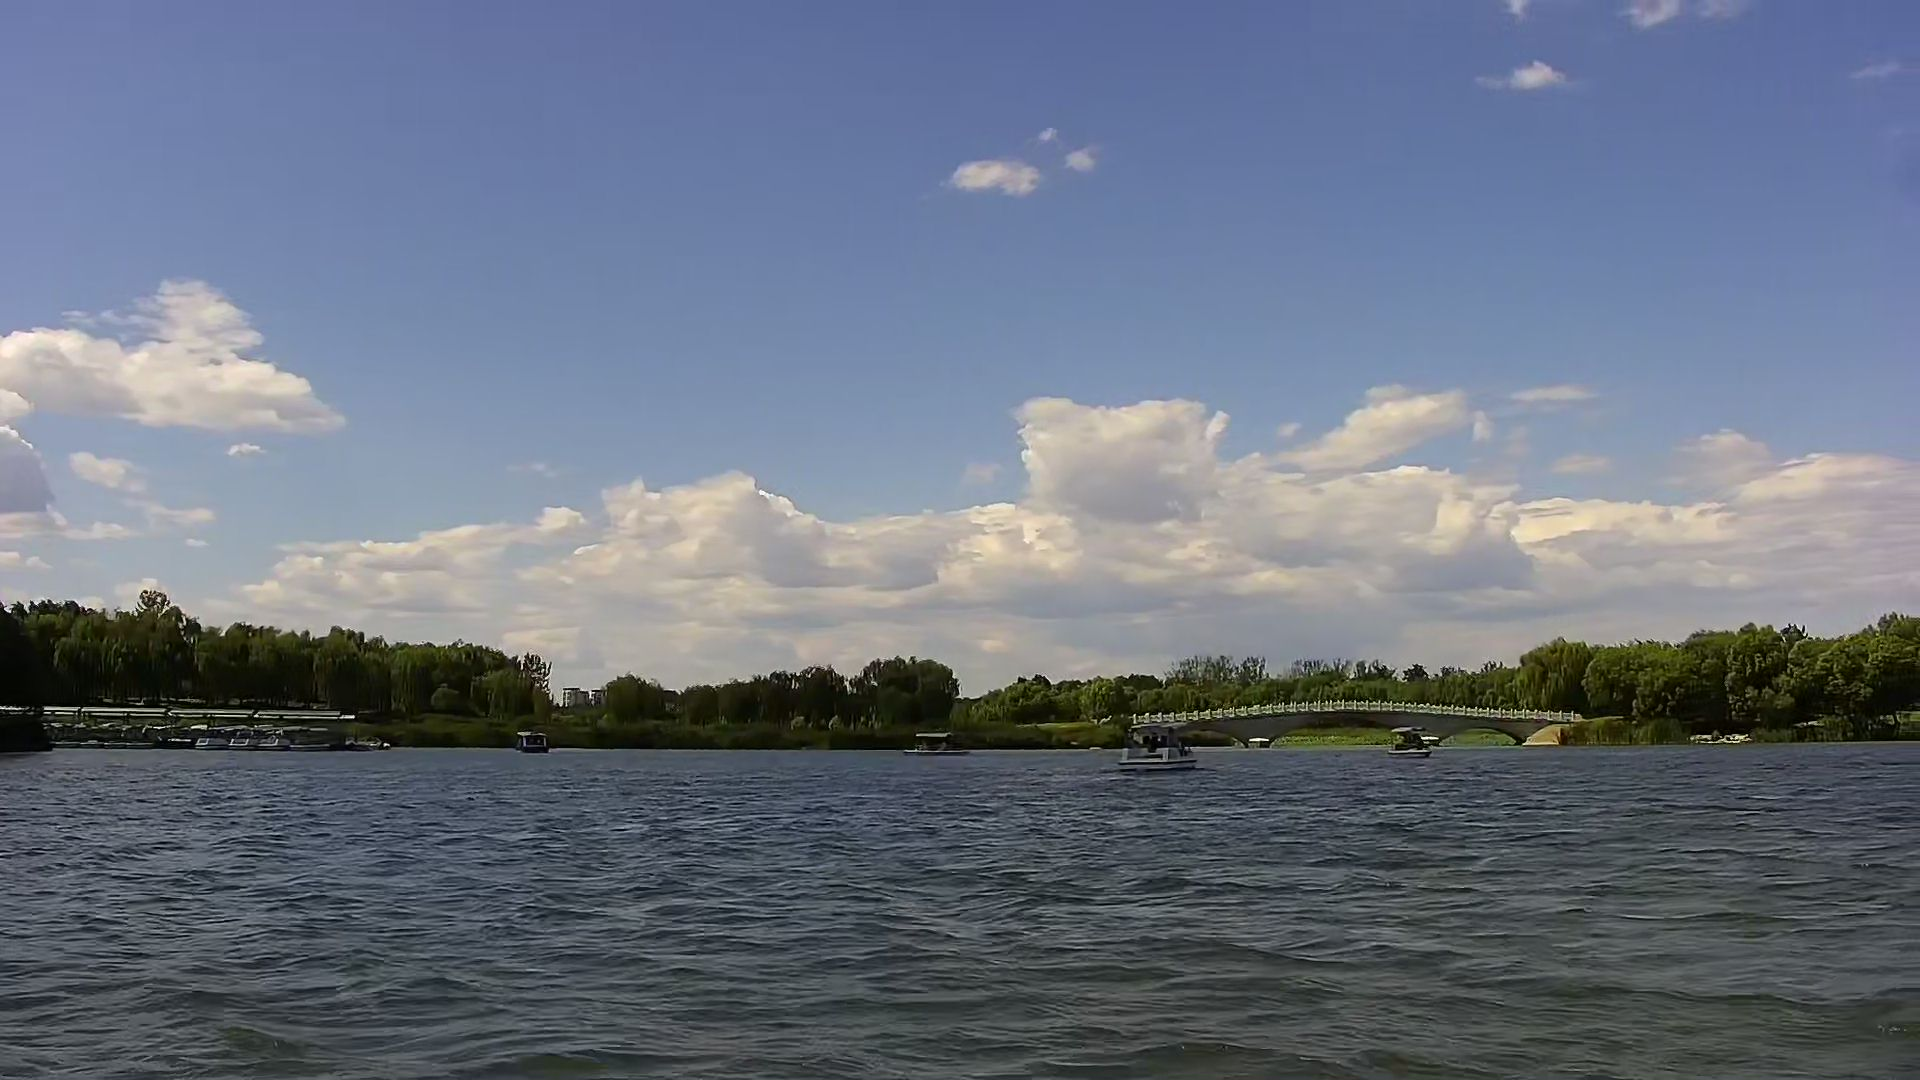boat: (1112, 716, 1205, 778), (1379, 720, 1461, 764), (905, 713, 971, 764), (501, 717, 556, 764)
bridge: (1129, 696, 1571, 756)
